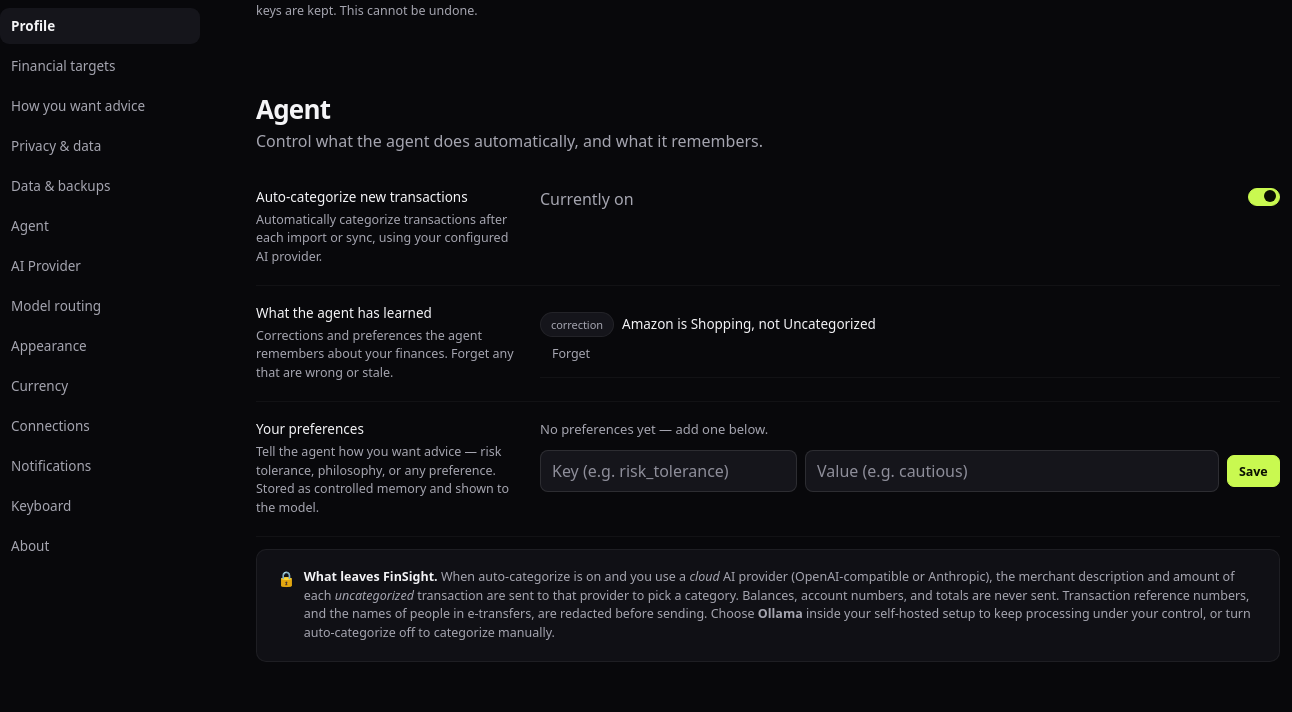
Settings — Agent section › shows agent memory (relocated from Insights) and forgets on click
(page scrolled)
Check: the text "What the agent has learned" is shown, box 256,304 -> 432,322
Check: the text "correction Amazon is Shopping, not Uncategorized" is shown, box 540,312 -> 876,337
Click the button with aria-label "Forget: Amazon is Shopping" at (571, 353), box 540,337 -> 602,369
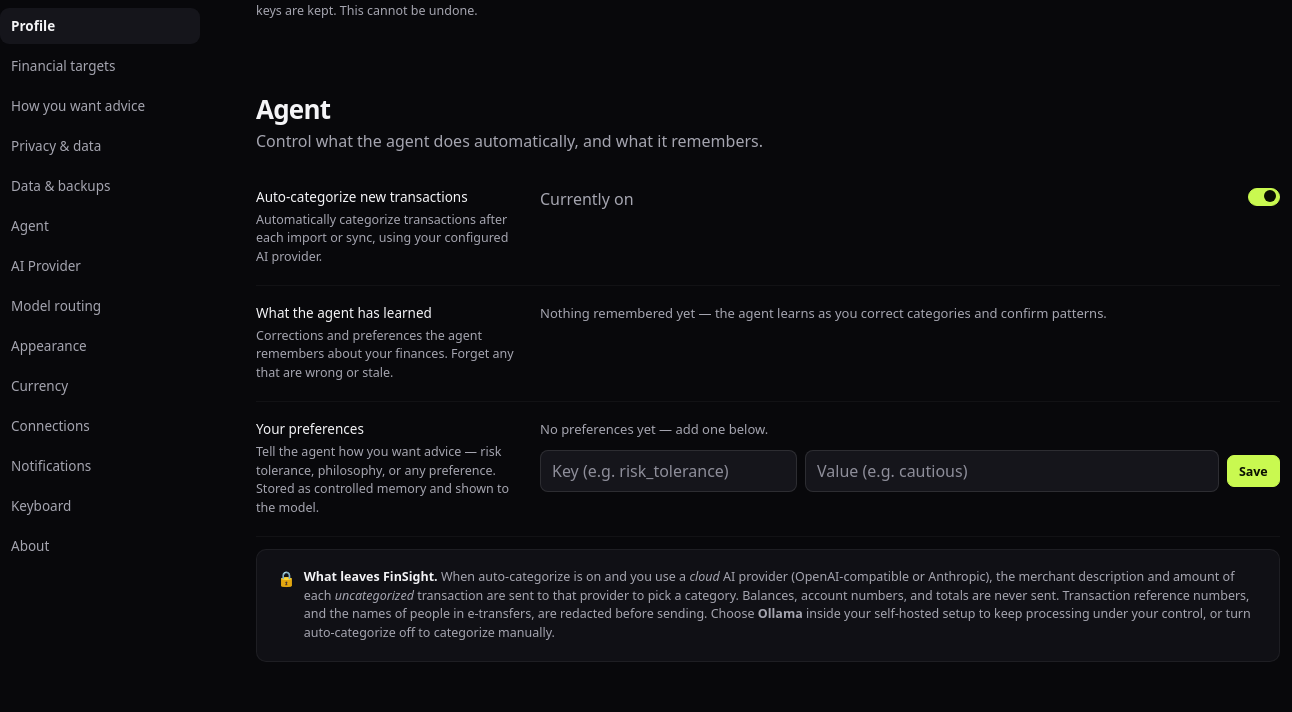
Check: the text "Amazon is Shopping" is gone
